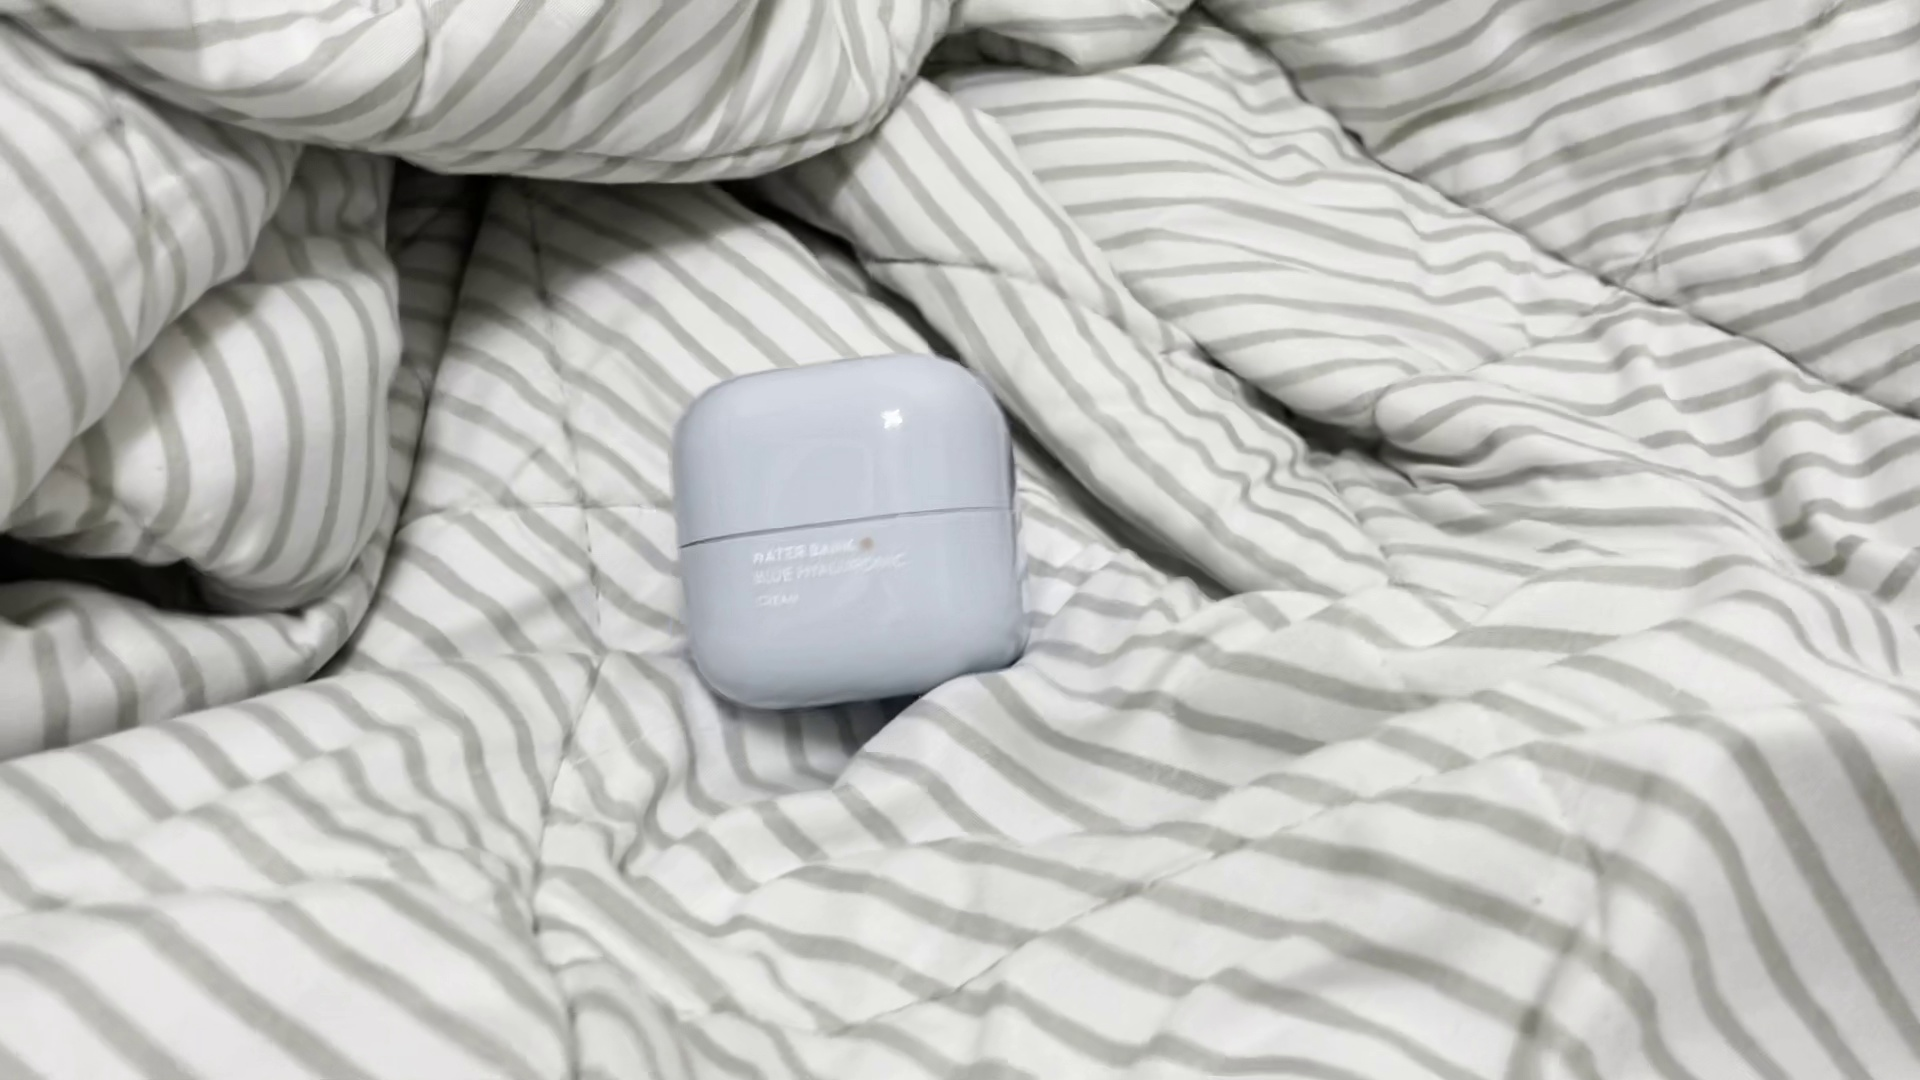cream: (671, 353, 1029, 715)
